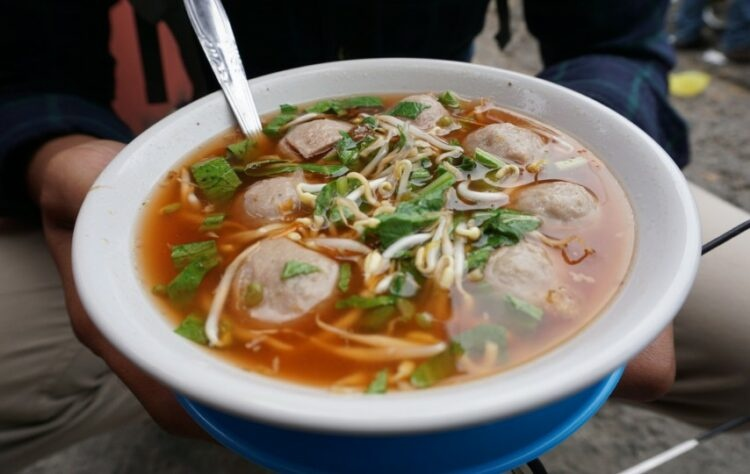bakso_malang: (140, 90, 633, 390)
